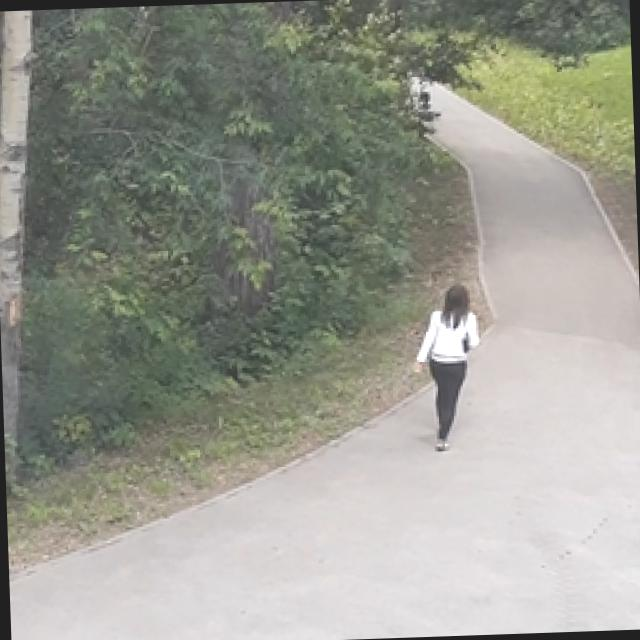person: (411, 282, 482, 452)
